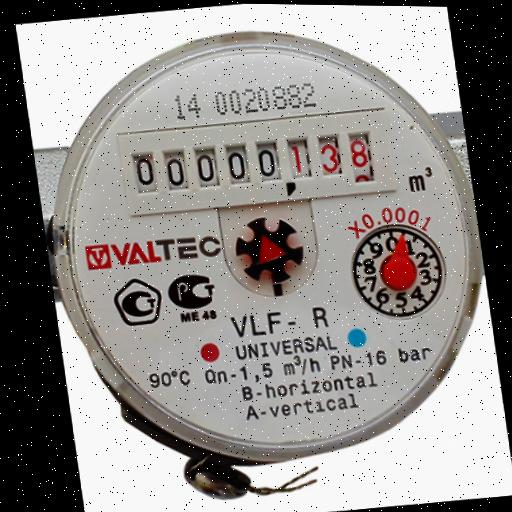0: (161, 148, 189, 192), (253, 140, 282, 182), (131, 153, 159, 195), (192, 146, 218, 189), (223, 143, 249, 186)
1: (285, 137, 311, 179)
3: (315, 134, 345, 177)
8: (345, 130, 375, 184)
border_water_meter_number: (122, 118, 391, 219)
